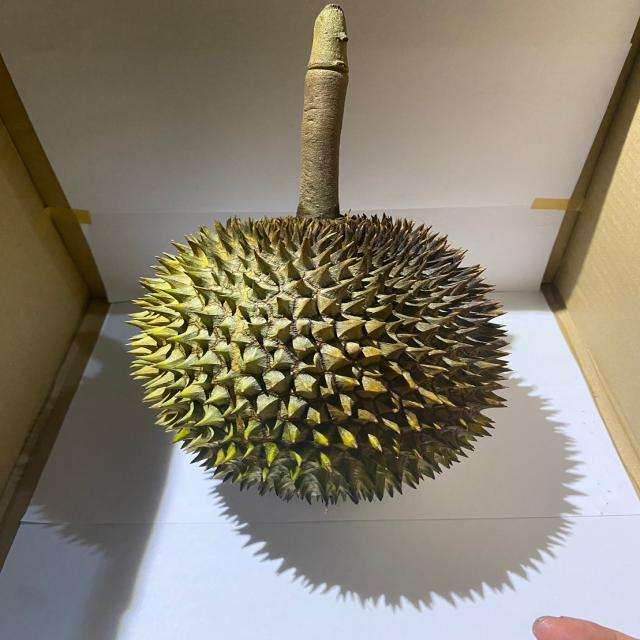immature: (121, 211, 510, 506)
